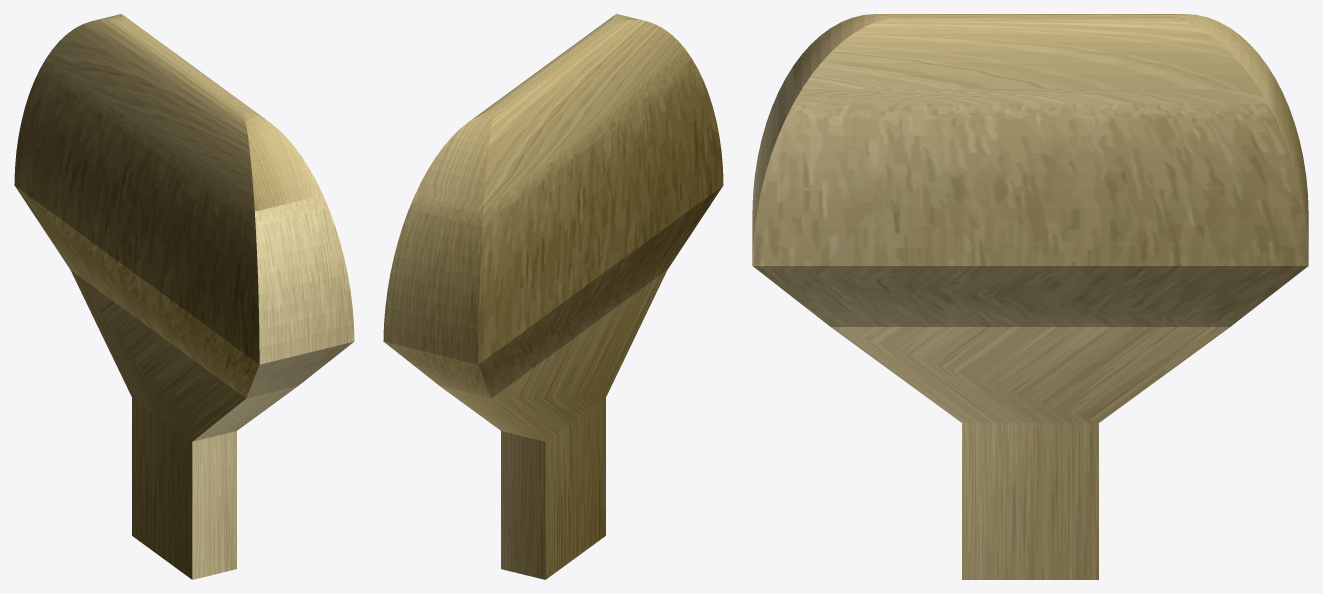
Rendered from hande.fbx.
3 views of the same model, side by side, from view 1: azimuth 30°, elevation 25°; view 2: azimuth 150°, elevation 25°; view 3: azimuth 270°, elevation 25° (orthographic). The views are drawn at different scales.
Parts seen in each view (by area): view 1: Handle; view 2: Handle; view 3: Handle.
Part boxes in pixels (left/top/right/bottom): Handle: left=14, top=14, right=354, bottom=579; Handle: left=383, top=14, right=723, bottom=579; Handle: left=752, top=14, right=1308, bottom=579.
Bounding box in the file's own units: 18.49 × 90.27 × 82.64.
